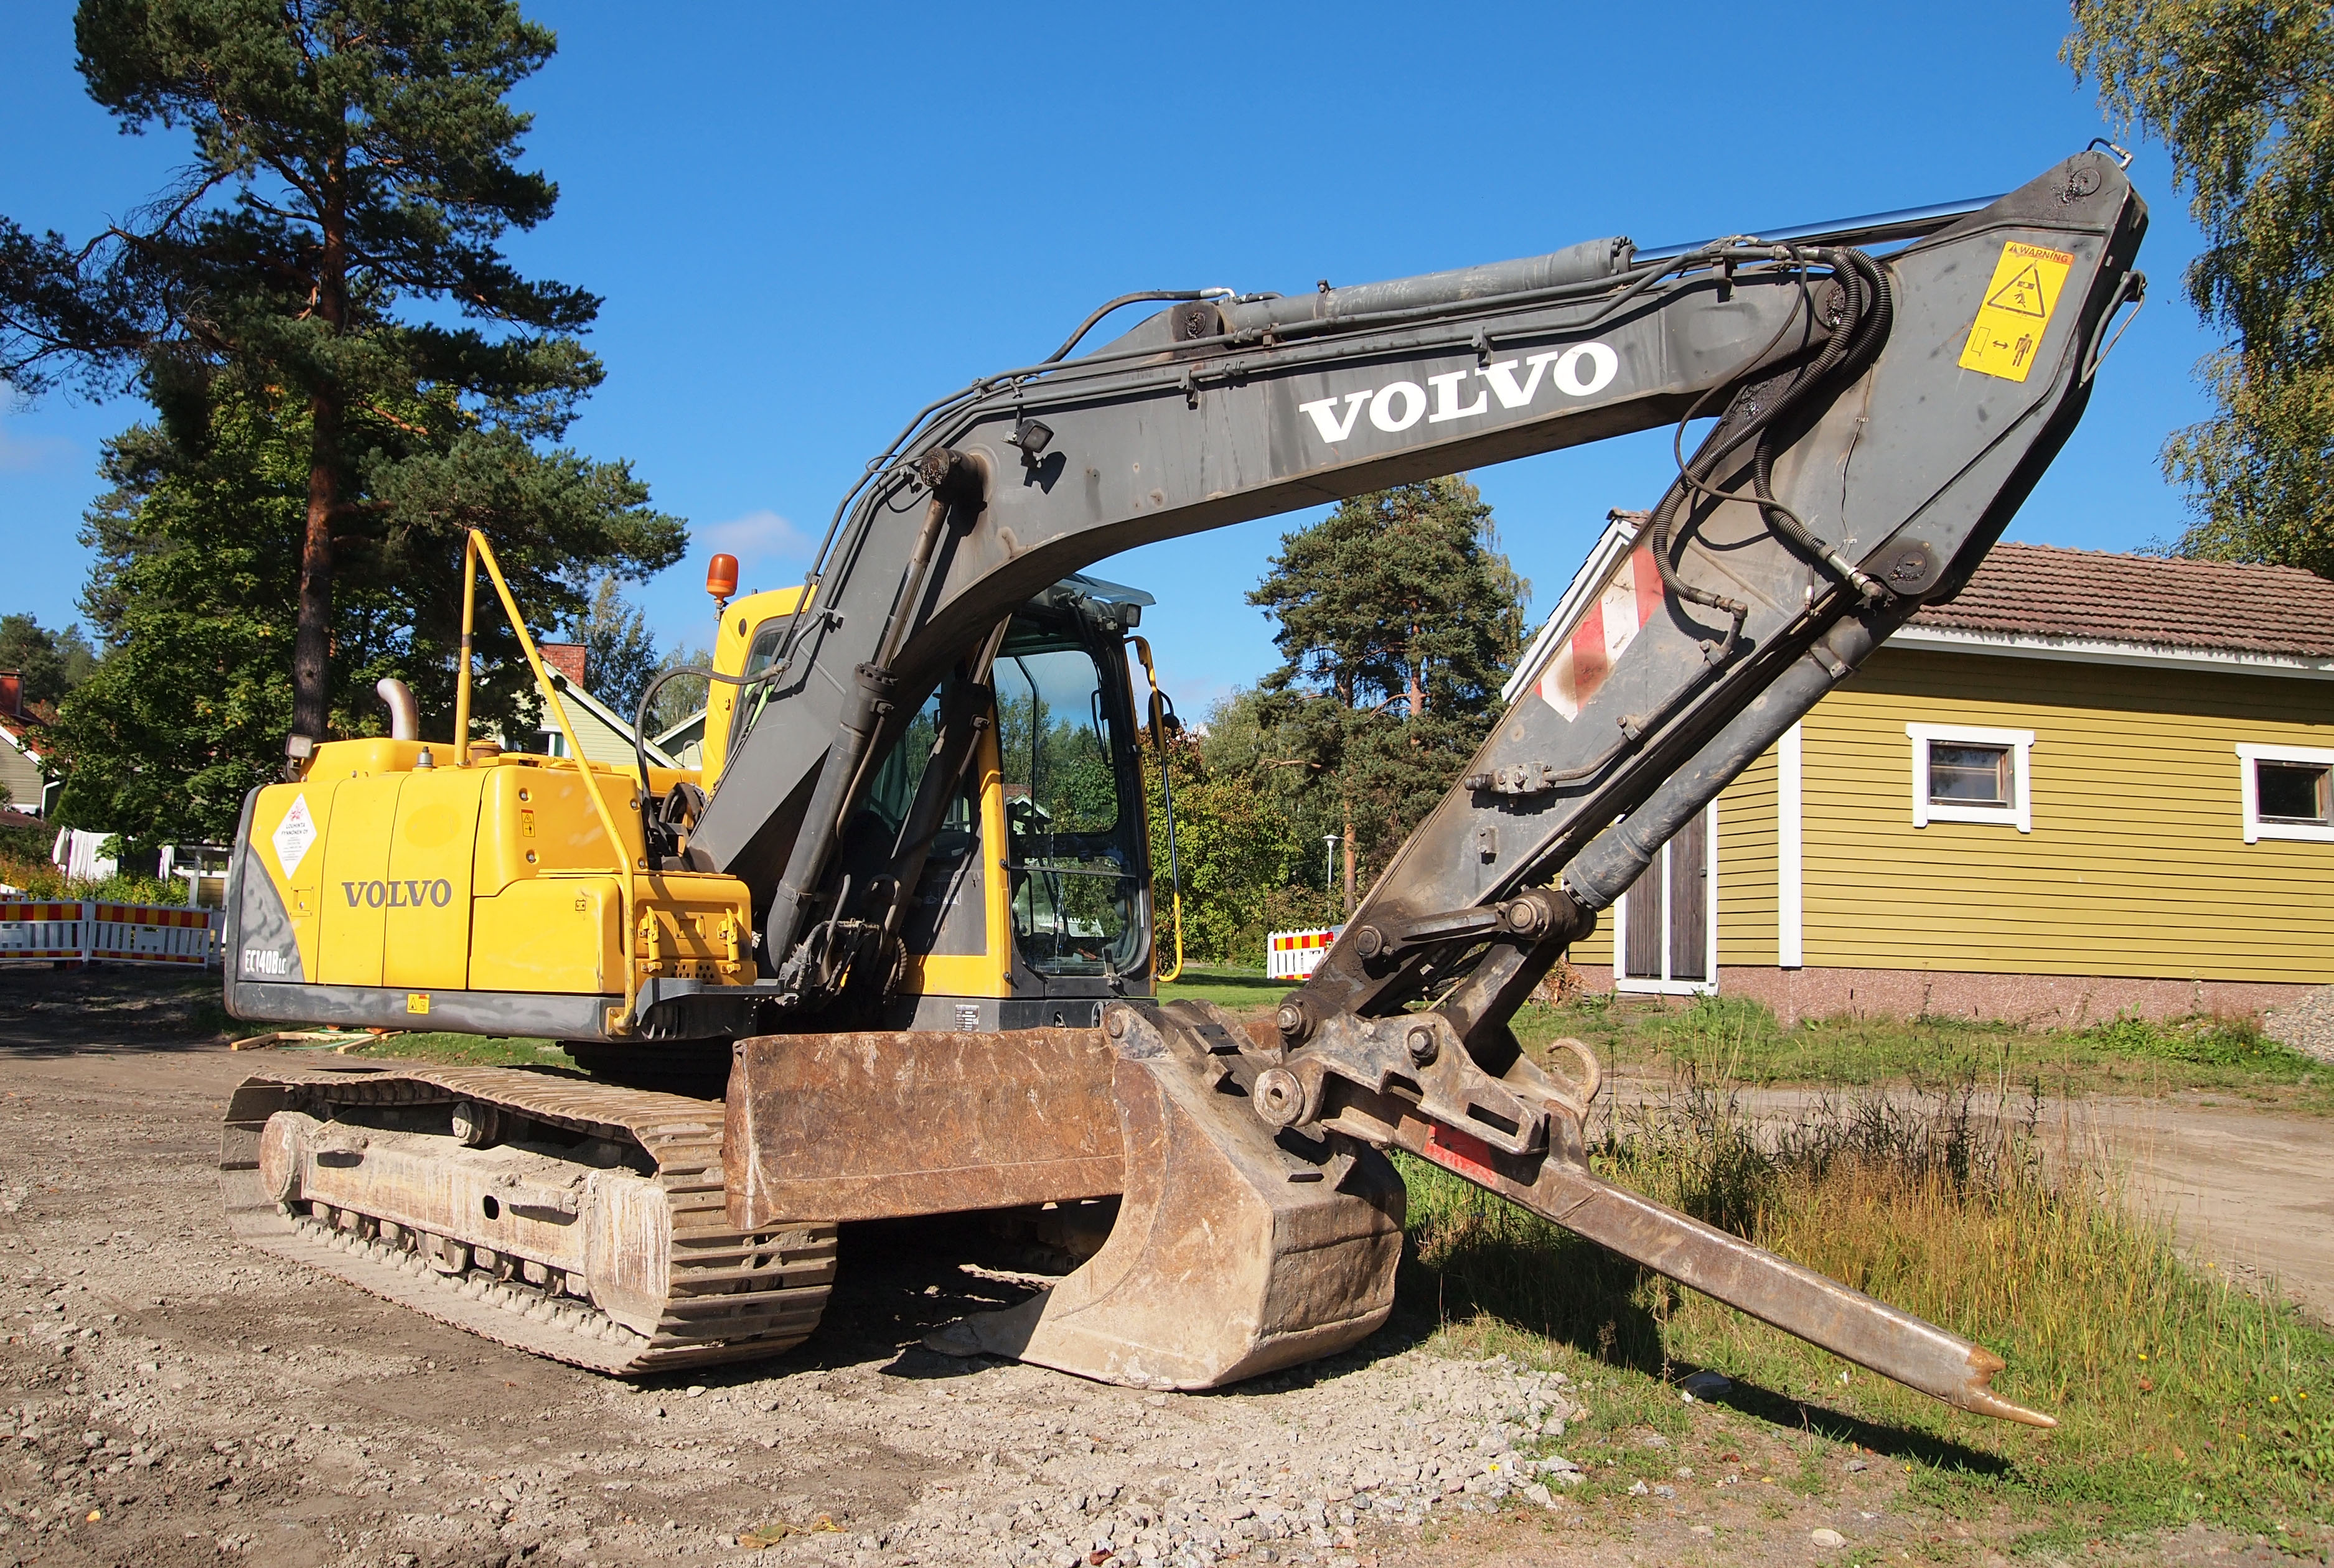excavator: (217, 161, 2138, 1505)
